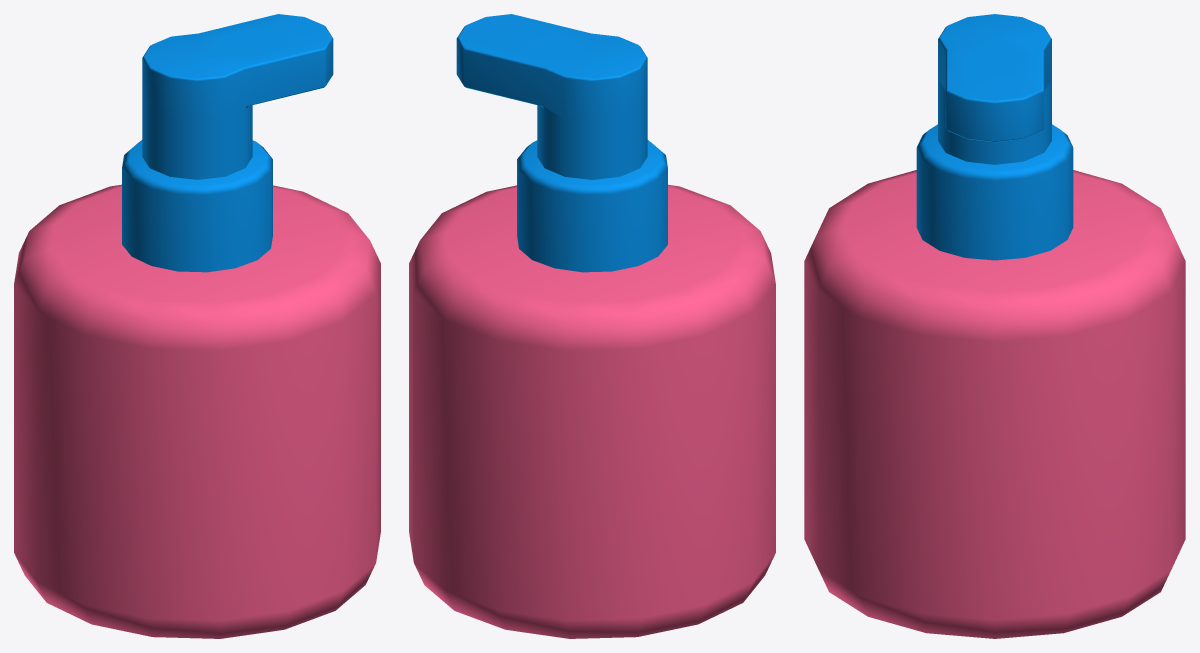
The model's file is Public_15_Bottle_8.glb.
3 views of the same model, side by side, from view 1: azimuth 30°, elevation 25°; view 2: azimuth 150°, elevation 25°; view 3: azimuth 270°, elevation 25° (orthographic). The views are drawn at different scales.
Parts seen in each view (by area): view 1: Public_15_Bottle_8; view 2: Public_15_Bottle_8; view 3: Public_15_Bottle_8.
Boxes of the visible parts, x1,y1,x2,y2 form: Public_15_Bottle_8: [14, 14, 380, 638]; Public_15_Bottle_8: [409, 14, 775, 638]; Public_15_Bottle_8: [804, 14, 1185, 638].
Bounding box in the file's own units: 1.17 × 1.81 × 1.17.
Materials: 1 (1 with a texture image).
